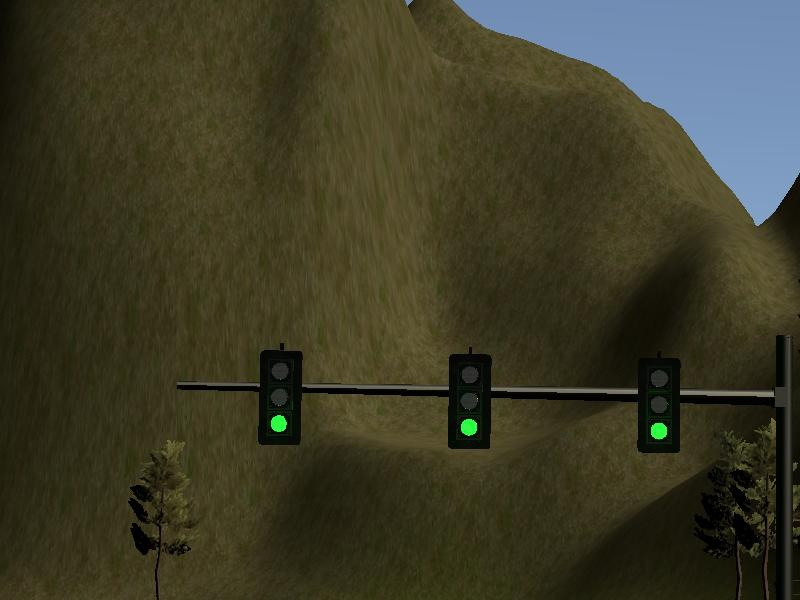green_light: (449, 356, 490, 447), (640, 360, 679, 451), (261, 353, 300, 443)
